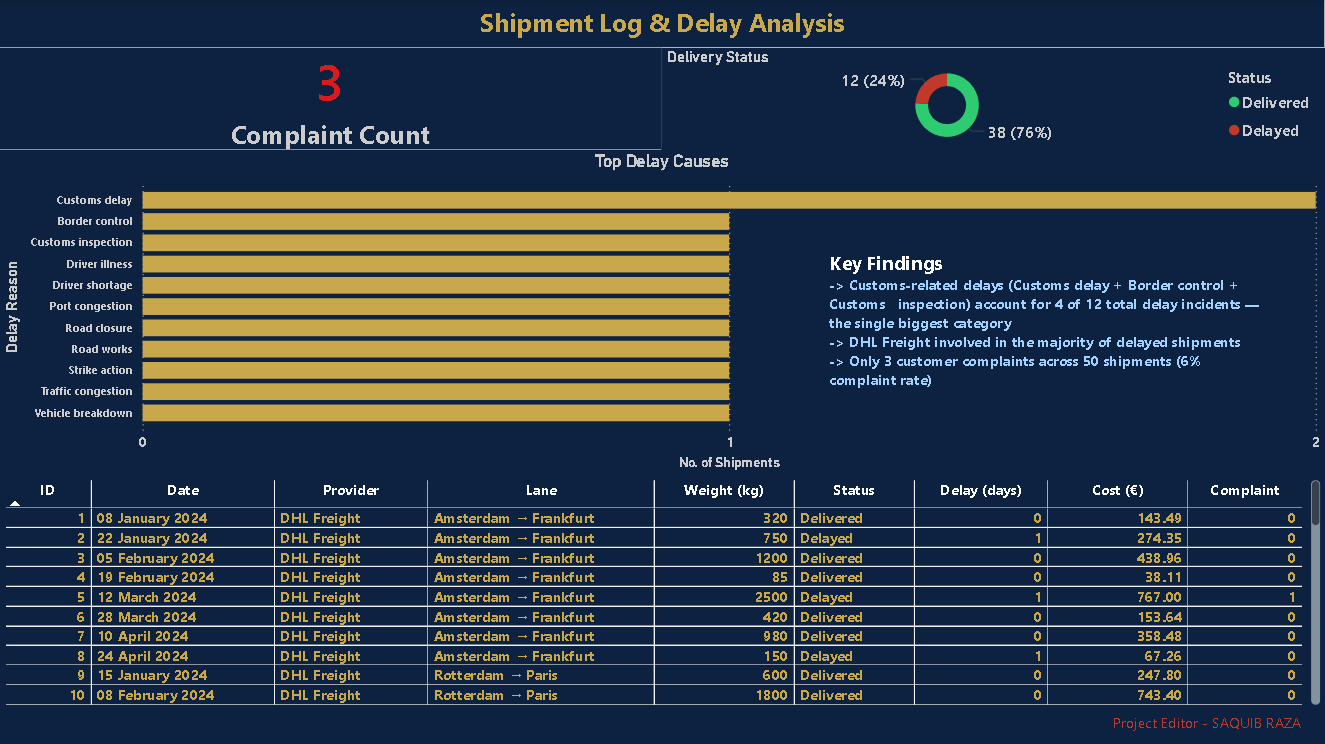

The dashboard page shown, as its layout file describes it:
{"tool":"powerbi","page":{"name":"Shipment Drill-Through","canvas":[1280,720],"ordinal":3},"visuals":[{"type":"textbox","box":[0,0,1280,47.1],"z":0},{"type":"textbox","box":[1070,683.8,210,36.2],"z":1000},{"type":"cardVisual","fields":{"Data":["shipment_detail.Complaint Count"]},"box":[0,47.1,639.4,98.9],"z":2000},{"type":"donutChart","title":"Delivery Status ","fields":{"Category":["shipment_detail.status"],"Y":["CountNonNull(shipment_detail.shipment_id)"]},"box":[639.4,47.1,640.6,98.9],"z":3000},{"type":"clusteredBarChart","title":"Top Delay Causes","fields":{"Category":["shipment_detail.delay_reason"],"Y":["CountNonNull(shipment_detail.shipment_id)"]},"box":[0,146,1280,313.7],"z":4000},{"type":"tableEx","fields":{"Values":["shipment_detail.shipment_id","shipment_detail.shipment_date","shipment_detail.provider_name","shipment_detail.lane","shipment_detail.weight_kg","shipment_detail.status","shipment_detail.delay_days","shipment_detail.total_cost_eur","shipment_detail.customer_complaint"]},"box":[0,459.7,1280,226.8],"z":5000},{"type":"textbox","box":[796.3,236.5,435.5,156.8],"z":6000}]}

Visuals, with their boxes in screenshot pixels (x1, y1, x2, y2), scaled from the page's 1280x720 canvas onto the 1325x744 screenshot:
textbox: (0, 0, 1324, 49)
textbox: (1108, 707, 1324, 743)
cardVisual - shipment_detail.Complaint Count: (0, 49, 662, 151)
"Delivery Status " donutChart: (662, 49, 1324, 151)
"Top Delay Causes" clusteredBarChart: (0, 151, 1324, 475)
tableEx - shipment_detail.shipment_id x shipment_detail.shipment_date: (0, 475, 1324, 709)
textbox: (824, 244, 1275, 406)
